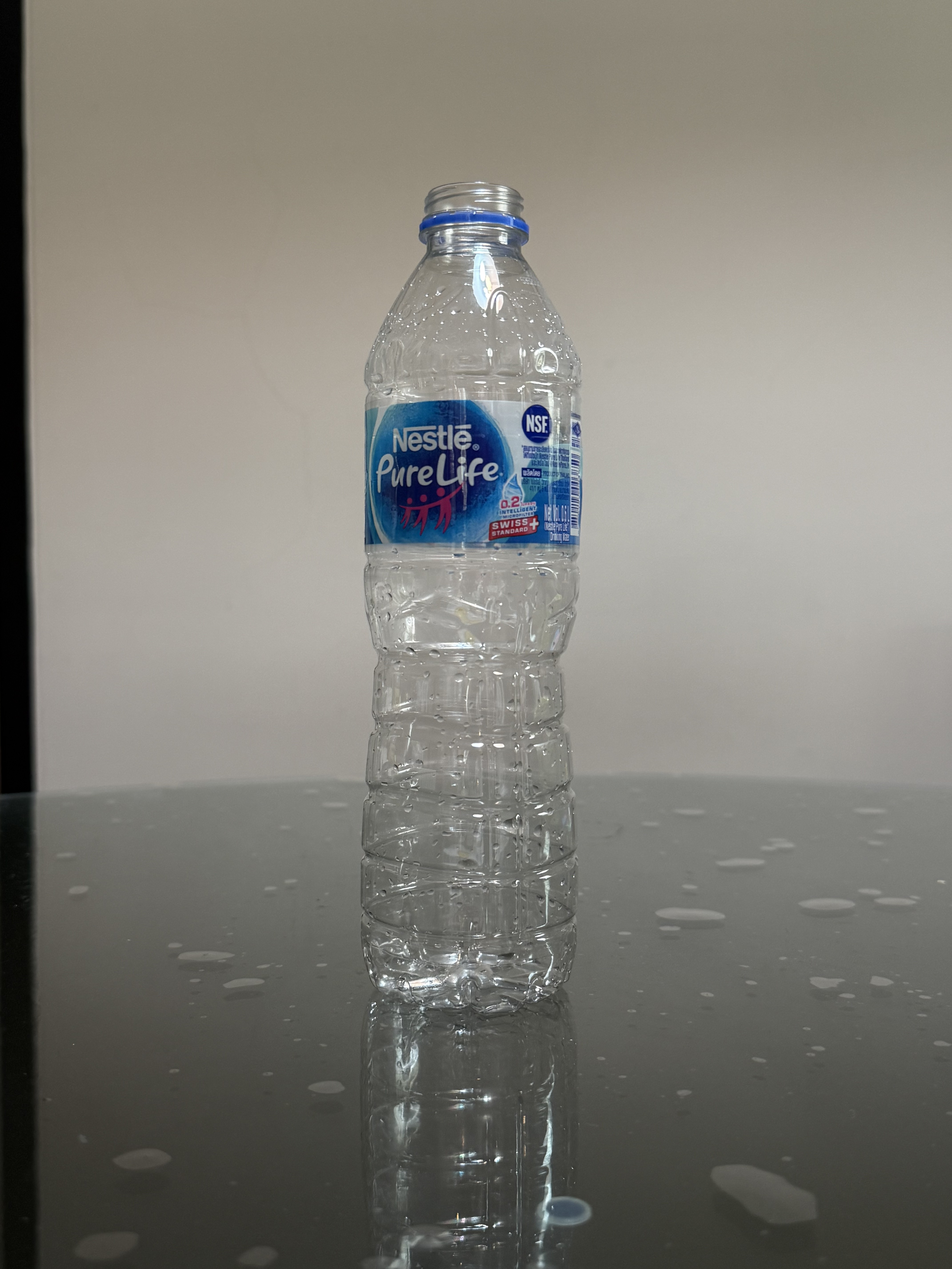no_cap: (421, 179, 530, 248)
